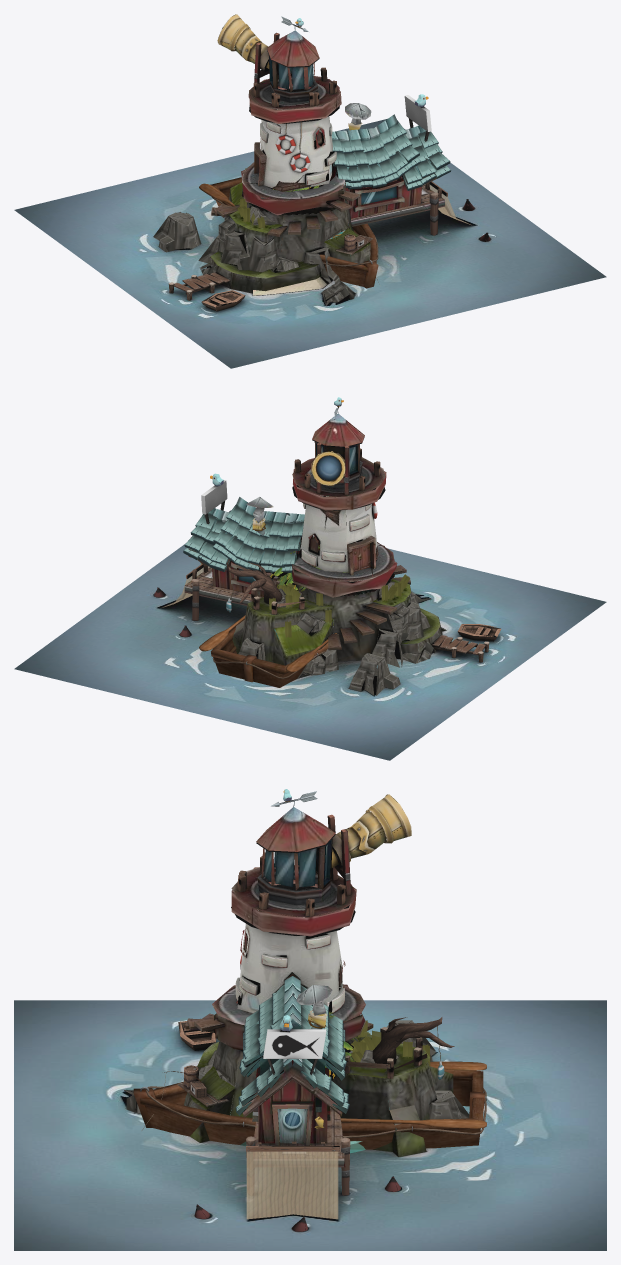
The model's file is scenery-beach.glb.
The picture shows the model from 3 angles, top to bottom: view 1: azimuth 30°, elevation 25°; view 2: azimuth 150°, elevation 25°; view 3: azimuth 270°, elevation 25°; orthographic projection. The views are drawn at different scales.
Parts seen in each view (by area): view 1: lighthouse_53, lighthouse_39, lighthouse_30, lighthouse_0, fishing_boat_0, lighthouse_41, lighthouse_5, lighthouse_20, lighthouse_6, lighthouse_1, lighthouse_19, lighthouse_7 (+2 smaller); view 2: lighthouse_53, lighthouse_39, lighthouse_30, lighthouse_0, fishing_boat_0, lighthouse_5, lighthouse_41, lighthouse_46, lighthouse_6, lighthouse_17, lighthouse_1, lighthouse_7 (+2 smaller); view 3: lighthouse_53, lighthouse_39, lighthouse_0, fishing_boat_0, lighthouse_54, lighthouse_30, lighthouse_41, lighthouse_1, lighthouse_46, lighthouse_40, lighthouse_11, lighthouse_8 (+2 smaller).
Boxes of the visible parts, left/top/right/bottom form: lighthouse_53: left=14, top=119, right=606, bottom=368; lighthouse_39: left=207, top=30, right=370, bottom=295; lighthouse_30: left=332, top=120, right=451, bottom=190; lighthouse_0: left=322, top=103, right=445, bottom=227; fishing_boat_0: left=199, top=177, right=378, bottom=288; lighthouse_41: left=217, top=14, right=278, bottom=74; lighthouse_5: left=153, top=212, right=201, bottom=252; lighthouse_20: left=237, top=236, right=278, bottom=272; lighthouse_6: left=168, top=272, right=230, bottom=300; lighthouse_1: left=404, top=95, right=431, bottom=141; lighthouse_19: left=221, top=231, right=249, bottom=264; lighthouse_7: left=201, top=290, right=245, bottom=311; lighthouse_53: left=14, top=510, right=606, bottom=760; lighthouse_39: left=232, top=413, right=445, bottom=677; lighthouse_30: left=183, top=505, right=303, bottom=573; lighthouse_0: left=184, top=497, right=320, bottom=605; fishing_boat_0: left=199, top=615, right=336, bottom=687; lighthouse_5: left=349, top=653, right=400, bottom=695; lighthouse_41: left=311, top=451, right=345, bottom=485; lighthouse_46: left=228, top=562, right=282, bottom=603; lighthouse_6: left=432, top=635, right=489, bottom=662; lighthouse_17: left=372, top=628, right=403, bottom=667; lighthouse_1: left=201, top=479, right=227, bottom=524; lighthouse_7: left=457, top=624, right=501, bottom=641; lighthouse_53: left=14, top=1000, right=606, bottom=1250; lighthouse_39: left=184, top=807, right=453, bottom=1156; lighthouse_0: left=242, top=973, right=345, bottom=1167; fishing_boat_0: left=133, top=1061, right=487, bottom=1149; lighthouse_54: left=246, top=1151, right=338, bottom=1219; lighthouse_30: left=235, top=984, right=349, bottom=1115; lighthouse_41: left=315, top=794, right=411, bottom=872; lighthouse_1: left=263, top=1029, right=326, bottom=1078; lighthouse_46: left=372, top=1017, right=454, bottom=1064; lighthouse_40: left=246, top=1136, right=350, bottom=1195; lighthouse_11: left=429, top=1090, right=469, bottom=1119; lighthouse_8: left=344, top=1027, right=427, bottom=1078.
Size of the model in its own units: 36.89 by 24.01 by 36.89.
Materials: 69 (58 with a texture image).
